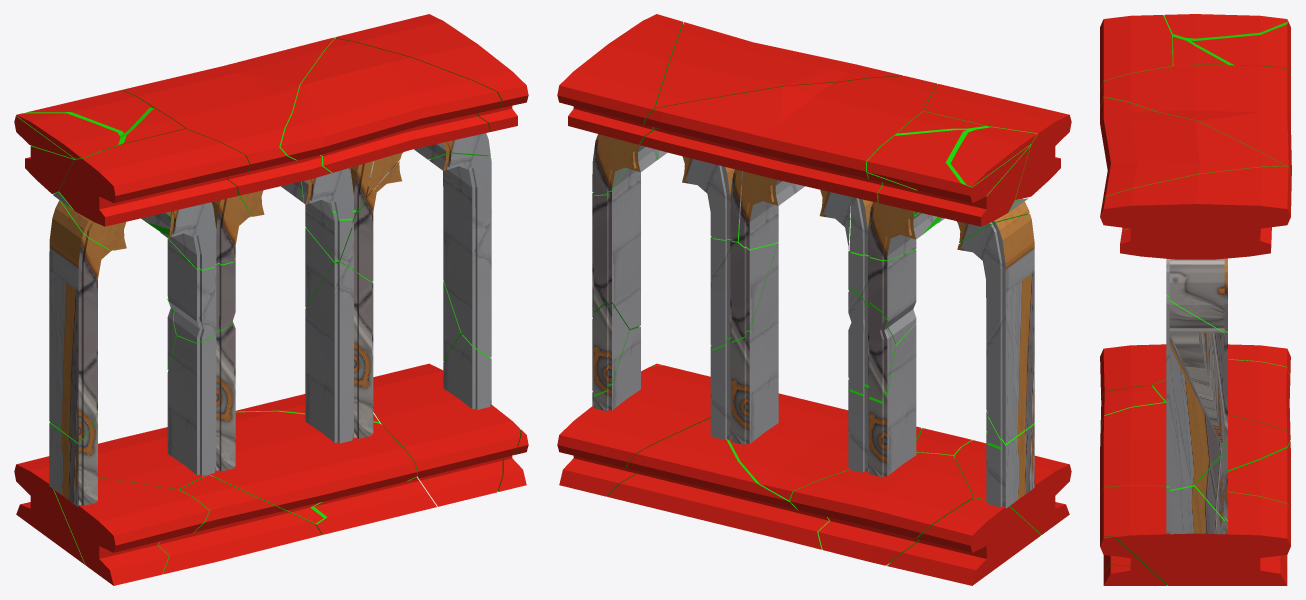
File: SM_Fence1m_Broken_01.fbx
The picture shows the model from 3 angles, left to right: view 1: azimuth 30°, elevation 25°; view 2: azimuth 150°, elevation 25°; view 3: azimuth 270°, elevation 25°; orthographic projection. The views are drawn at different scales.
Parts seen in each view (by area): view 1: SM_Fence1m_Broken_36, SM_Fence1m_Broken_31, SM_Fence1m_Broken_28, SM_Fence1m_Broken_22, SM_Fence1m_Broken_35, SM_Fence1m_Broken_05, SM_Fence1m_Broken_01, SM_Fence1m_Broken_29, SM_Fence1m_Broken_21, SM_Fence1m_Broken_16, SM_Fence1m_Broken_25, SM_Fence1m_Broken_30 (+19 smaller); view 2: SM_Fence1m_Broken_31, SM_Fence1m_Broken_26, SM_Fence1m_Broken_27, SM_Fence1m_Broken_01, SM_Fence1m_Broken_22, SM_Fence1m_Broken_30, SM_Fence1m_Broken_36, SM_Fence1m_Broken_05, SM_Fence1m_Broken_28, SM_Fence1m_Broken_24, SM_Fence1m_Broken_21, SM_Fence1m_Broken_16 (+17 smaller); view 3: SM_Fence1m_Broken_30, SM_Fence1m_Broken_22, SM_Fence1m_Broken_31, SM_Fence1m_Broken_16, SM_Fence1m_Broken_36, SM_Fence1m_Broken_28, SM_Fence1m_Broken_35, SM_Fence1m_Broken_27, SM_Fence1m_Broken_07, SM_Fence1m_Broken_34, SM_Fence1m_Broken_29, SM_Fence1m_Broken_26 (+7 smaller).
Boxes of the visible parts, left/top/right/bottom form: SM_Fence1m_Broken_36: left=280, top=38, right=501, bottom=172; SM_Fence1m_Broken_31: left=122, top=37, right=334, bottom=195; SM_Fence1m_Broken_28: left=210, top=411, right=416, bottom=523; SM_Fence1m_Broken_22: left=373, top=363, right=520, bottom=506; SM_Fence1m_Broken_35: left=59, top=128, right=249, bottom=226; SM_Fence1m_Broken_05: left=305, top=261, right=373, bottom=443; SM_Fence1m_Broken_01: left=49, top=200, right=112, bottom=442; SM_Fence1m_Broken_29: left=54, top=478, right=209, bottom=585; SM_Fence1m_Broken_21: left=167, top=322, right=235, bottom=478; SM_Fence1m_Broken_16: left=429, top=153, right=491, bottom=357; SM_Fence1m_Broken_25: left=157, top=475, right=321, bottom=574; SM_Fence1m_Broken_30: left=335, top=14, right=528, bottom=131; SM_Fence1m_Broken_31: left=640, top=76, right=937, bottom=202; SM_Fence1m_Broken_26: left=607, top=418, right=829, bottom=549; SM_Fence1m_Broken_27: left=790, top=452, right=972, bottom=565; SM_Fence1m_Broken_01: left=957, top=214, right=1034, bottom=443; SM_Fence1m_Broken_22: left=557, top=365, right=710, bottom=496; SM_Fence1m_Broken_30: left=557, top=14, right=683, bottom=144; SM_Fence1m_Broken_36: left=653, top=22, right=902, bottom=130; SM_Fence1m_Broken_05: left=710, top=242, right=778, bottom=444; SM_Fence1m_Broken_28: left=729, top=393, right=920, bottom=500; SM_Fence1m_Broken_24: left=887, top=498, right=1040, bottom=585; SM_Fence1m_Broken_21: left=848, top=324, right=916, bottom=477; SM_Fence1m_Broken_16: left=592, top=150, right=667, bottom=330; SM_Fence1m_Broken_30: left=1100, top=166, right=1291, bottom=259; SM_Fence1m_Broken_22: left=1100, top=485, right=1290, bottom=585; SM_Fence1m_Broken_31: left=1100, top=65, right=1291, bottom=176; SM_Fence1m_Broken_16: left=1166, top=295, right=1227, bottom=489; SM_Fence1m_Broken_36: left=1100, top=97, right=1284, bottom=231; SM_Fence1m_Broken_28: left=1100, top=402, right=1290, bottom=494; SM_Fence1m_Broken_35: left=1100, top=15, right=1173, bottom=89; SM_Fence1m_Broken_27: left=1153, top=359, right=1290, bottom=439; SM_Fence1m_Broken_07: left=1166, top=258, right=1227, bottom=332; SM_Fence1m_Broken_34: left=1189, top=20, right=1290, bottom=75; SM_Fence1m_Broken_29: left=1100, top=344, right=1166, bottom=396; SM_Fence1m_Broken_26: left=1228, top=441, right=1290, bottom=563.
Bounding box in the file's own units: 1 × 0.9466 × 0.4268.
